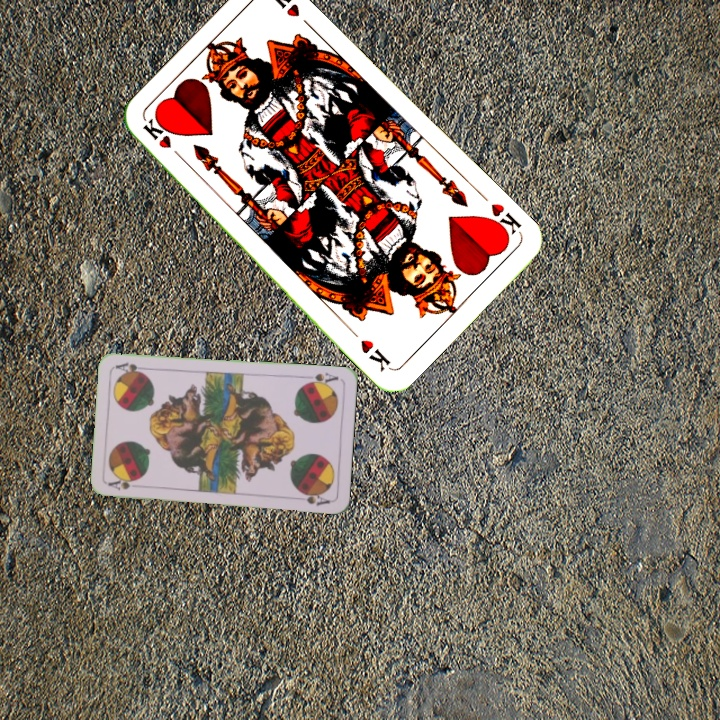HK: (138, 116, 188, 165), (481, 199, 524, 243)
SA: (300, 368, 341, 388), (105, 476, 139, 493)
